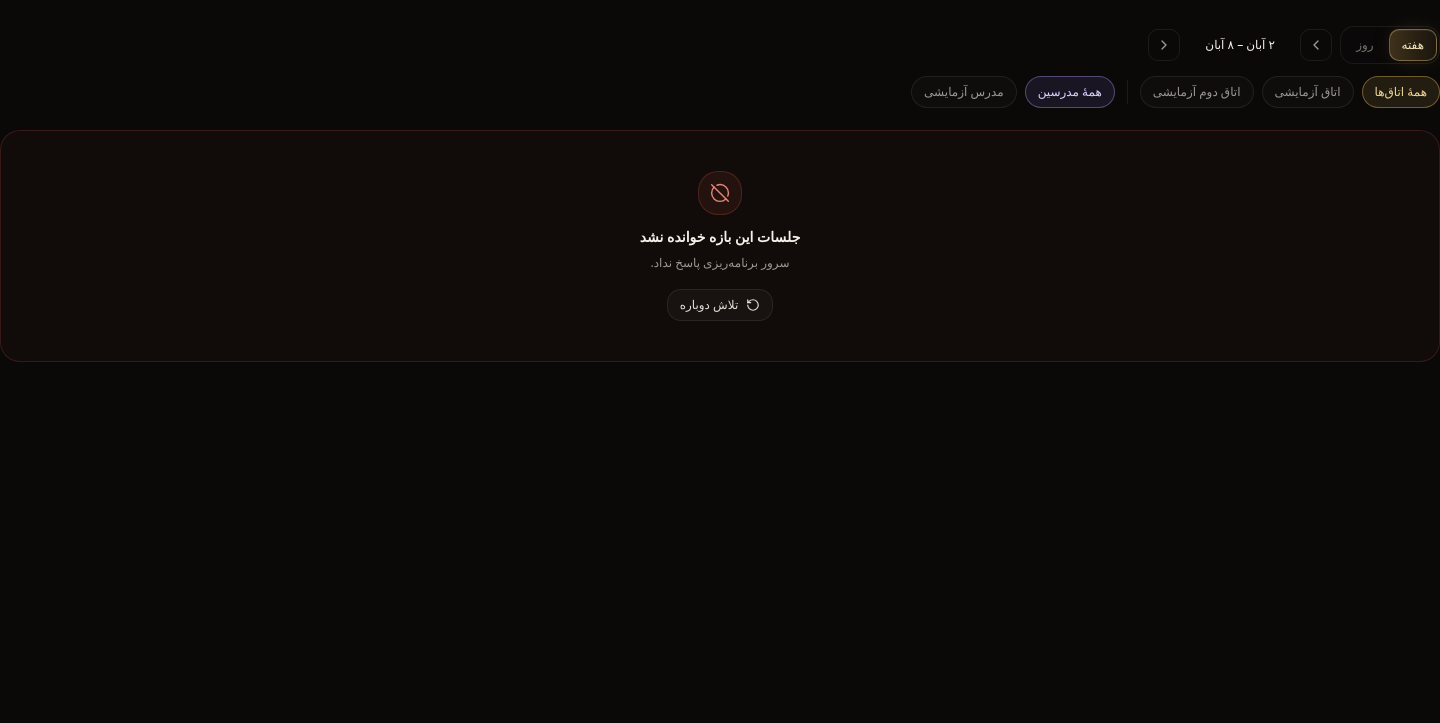
SchedulingView reads › reports a failed read with its own message and a retry, never as an empty window
Expected: the message shows "جلسات این بازه خوانده نشد", [640,227,800,246]
Expected: the message shows "سرور برنامه‌ریزی پاسخ نداد.", [650,254,789,271]
Click the button "تلاش دوباره".
click(720, 305)  # box [667,289,773,321]
(page scrolled)
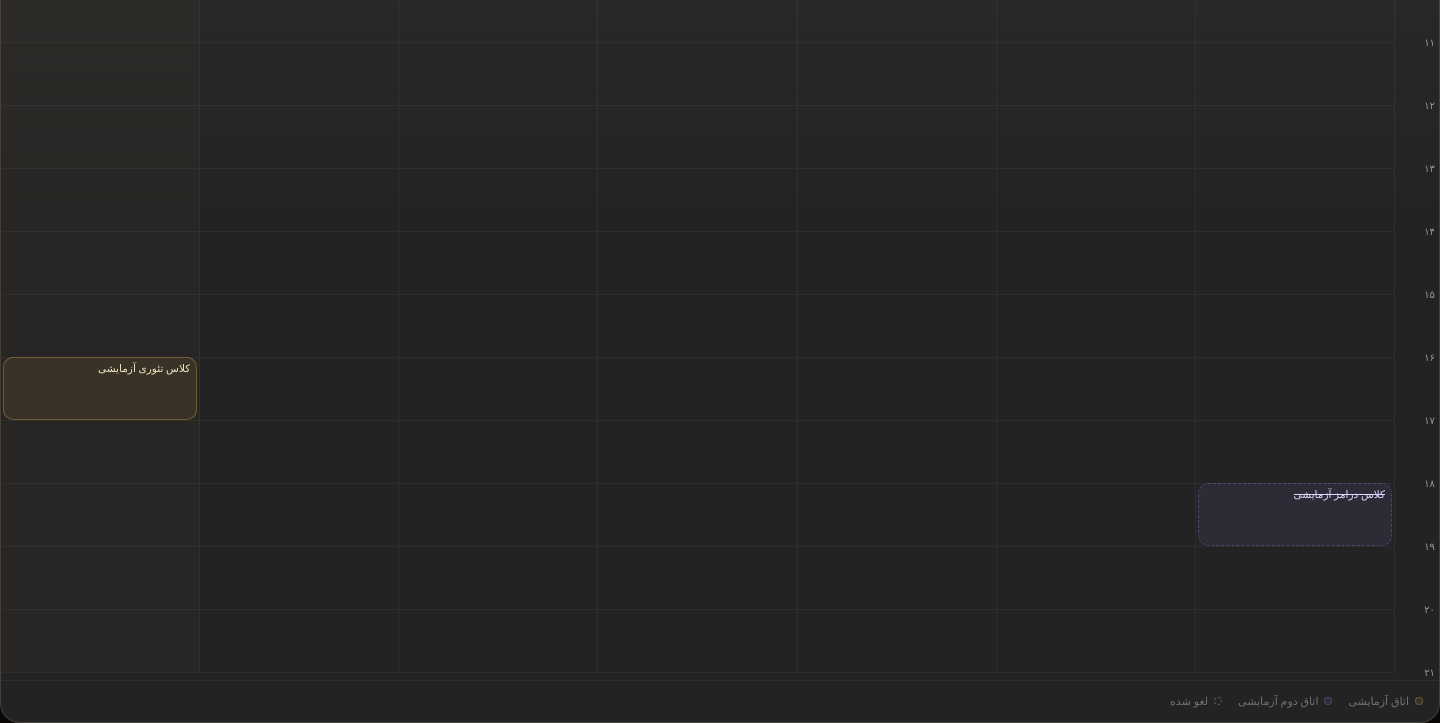
Result: the text "کلاس تئوری آزمایشی" is shown at [98,362,190,375]
Result: the message "جلسات این بازه خوانده نشد سرور برنامه‌ریزی پاسخ نداد. تلاش دوباره" is gone
